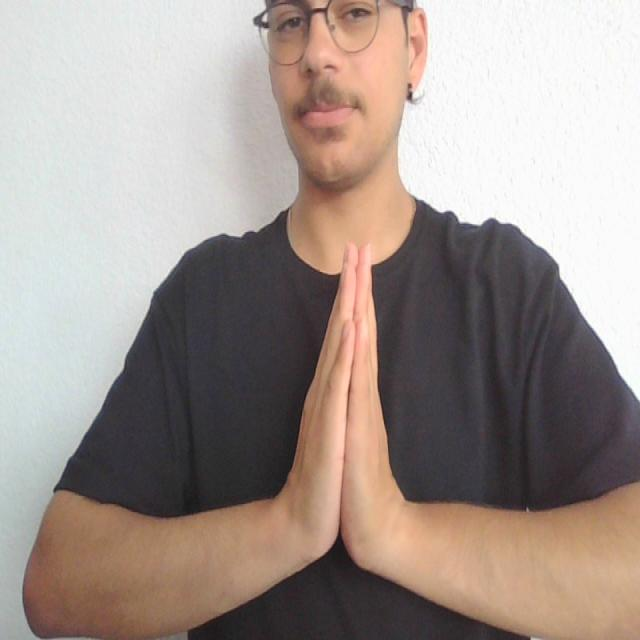Ozur-Dilemek: (280, 236, 407, 586)
